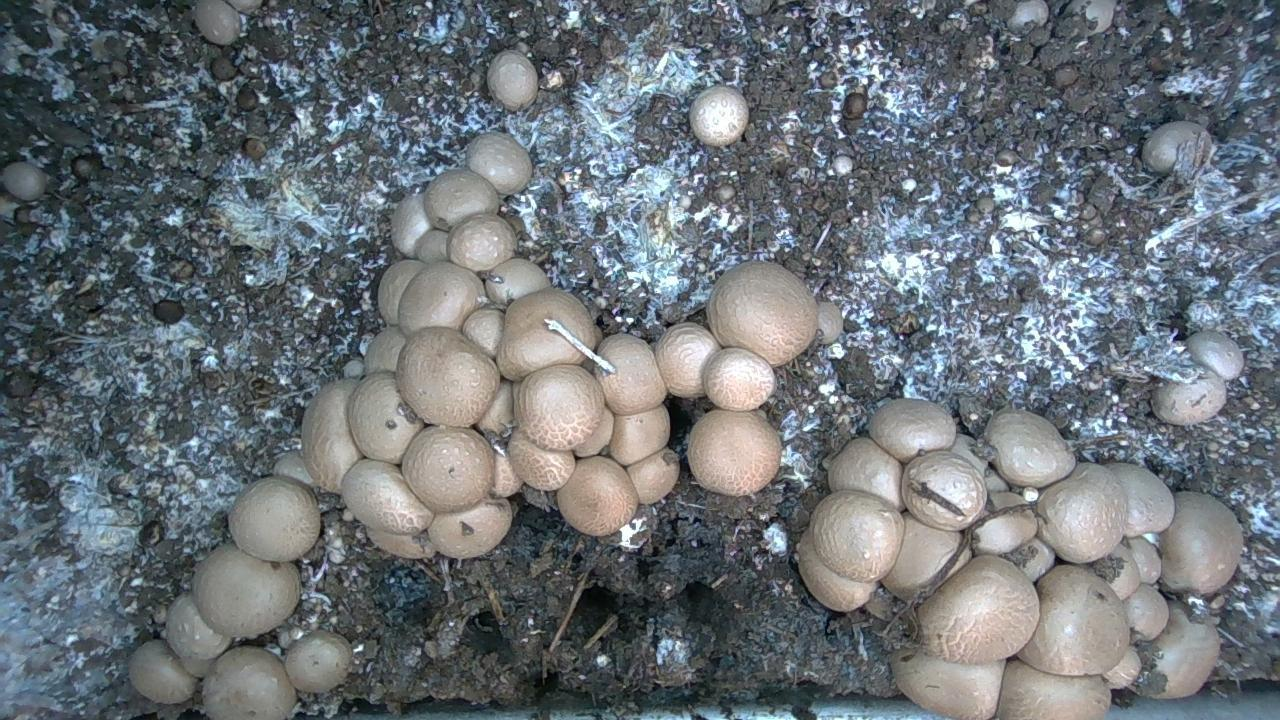BB: (917, 555, 1039, 663), (1018, 564, 1129, 675), (707, 262, 817, 365), (396, 326, 500, 426), (193, 544, 300, 637), (1036, 463, 1127, 563), (497, 288, 594, 379), (810, 490, 903, 582), (1160, 492, 1242, 594), (890, 648, 1005, 719), (688, 409, 781, 496), (401, 426, 493, 512), (229, 476, 320, 561), (515, 365, 603, 450), (984, 409, 1075, 487), (341, 459, 433, 534), (882, 513, 961, 600), (348, 372, 423, 463), (901, 451, 987, 530), (202, 646, 295, 719), (302, 379, 361, 492), (997, 660, 1110, 719), (557, 456, 638, 536), (797, 530, 876, 611), (1154, 601, 1219, 698), (398, 262, 484, 335), (595, 333, 666, 415), (828, 437, 904, 510), (869, 398, 955, 462), (166, 593, 231, 677), (428, 498, 512, 558), (1106, 463, 1174, 536), (654, 322, 719, 397), (424, 169, 498, 230), (703, 348, 774, 410), (129, 640, 196, 703), (285, 629, 352, 691), (466, 132, 531, 195), (508, 428, 574, 490), (1154, 370, 1229, 424), (447, 214, 516, 271), (1142, 121, 1211, 178), (609, 405, 669, 465), (689, 86, 748, 146), (485, 258, 549, 307), (377, 259, 425, 324), (487, 50, 537, 110), (627, 448, 679, 503), (1186, 331, 1243, 379), (1123, 583, 1168, 640), (391, 194, 431, 257), (1004, 538, 1054, 581), (367, 528, 435, 559), (195, 0, 240, 45), (364, 326, 405, 375), (462, 308, 503, 357), (477, 381, 514, 435), (3, 162, 47, 200), (1128, 537, 1161, 583), (273, 450, 313, 485), (491, 453, 522, 497), (414, 229, 447, 262), (817, 302, 842, 344)
